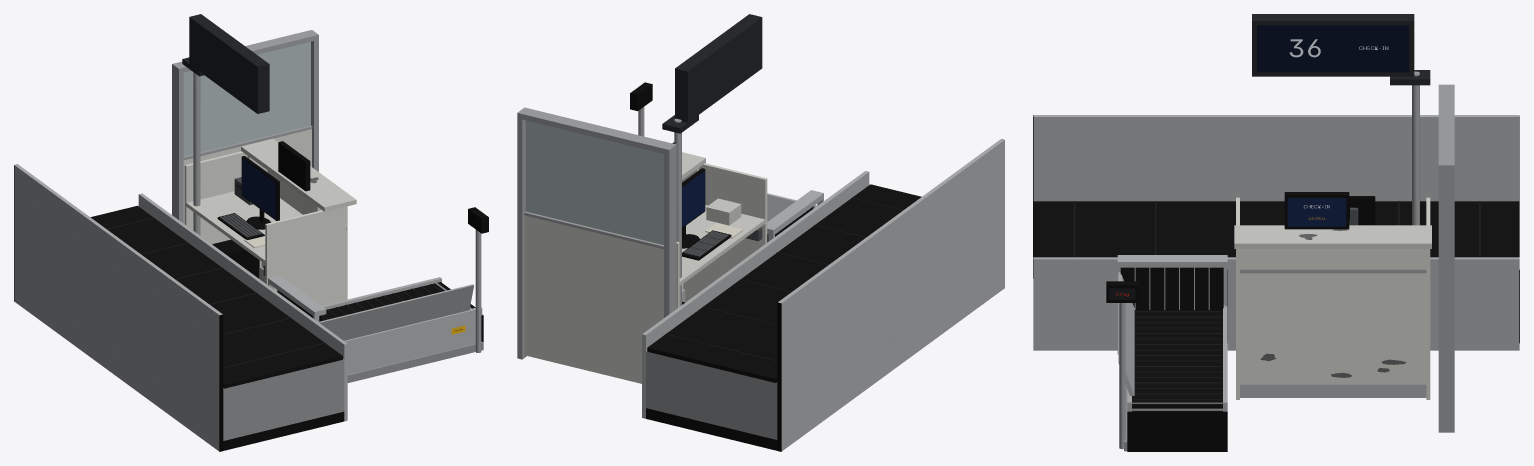
File: checkin_counter.glb
3 renders of one model, left to right at view 1: azimuth 30°, elevation 25°; view 2: azimuth 150°, elevation 25°; view 3: azimuth 270°, elevation 25°, orthographic. The views are drawn at different scales.
Parts seen in each view (by area): view 1: checkin_1, checkin_10, checkin_0, checkin_14, checkin_9, checkin_3, checkin_15, checkin_4, checkin_2, checkin_6, checkin_11, checkin_7 (+1 smaller); view 2: checkin_1, checkin_0, checkin_10, checkin_14, checkin_3, checkin_9, checkin_15, checkin_2, checkin_4, checkin_6, checkin_7, checkin_11 (+1 smaller); view 3: checkin_1, checkin_10, checkin_0, checkin_3, checkin_16, checkin_4, checkin_2, checkin_15, checkin_11, checkin_6, checkin_9.
Boxes of the visible parts, left/top/right/bottom form: checkin_1: left=14, top=164, right=482, bottom=451; checkin_10: left=90, top=205, right=475, bottom=388; checkin_0: left=183, top=129, right=347, bottom=305; checkin_14: left=183, top=41, right=310, bottom=156; checkin_9: left=34, top=204, right=483, bottom=440; checkin_3: left=172, top=30, right=481, bottom=352; checkin_15: left=182, top=14, right=269, bottom=113; checkin_4: left=212, top=141, right=488, bottom=450; checkin_2: left=186, top=138, right=356, bottom=264; checkin_6: left=242, top=158, right=275, bottom=219; checkin_11: left=107, top=217, right=441, bottom=368; checkin_7: left=14, top=164, right=241, bottom=451; checkin_1: left=642, top=139, right=1004, bottom=451; checkin_0: left=524, top=163, right=767, bottom=383; checkin_10: left=647, top=184, right=921, bottom=382; checkin_14: left=525, top=120, right=663, bottom=244; checkin_3: left=517, top=107, right=681, bottom=359; checkin_9: left=646, top=183, right=982, bottom=439; checkin_15: left=662, top=14, right=762, bottom=133; checkin_2: left=679, top=152, right=765, bottom=285; checkin_4: left=630, top=82, right=777, bottom=450; checkin_6: left=682, top=171, right=704, bottom=227; checkin_7: left=777, top=139, right=1004, bottom=451; checkin_11: left=665, top=197, right=903, bottom=361; checkin_1: left=1033, top=115, right=1519, bottom=411; checkin_10: left=1033, top=201, right=1519, bottom=408; checkin_0: left=1236, top=197, right=1430, bottom=399; checkin_3: left=1119, top=71, right=1454, bottom=449; checkin_16: left=1257, top=25, right=1409, bottom=72; checkin_4: left=1106, top=192, right=1375, bottom=451; checkin_2: left=1234, top=225, right=1431, bottom=248; checkin_15: left=1252, top=14, right=1430, bottom=85; checkin_11: left=1073, top=201, right=1480, bottom=400; checkin_6: left=1287, top=198, right=1346, bottom=226; checkin_9: left=1124, top=384, right=1222, bottom=451.
Bounding box in the file's own units: 2.56 × 2.3 × 3.
